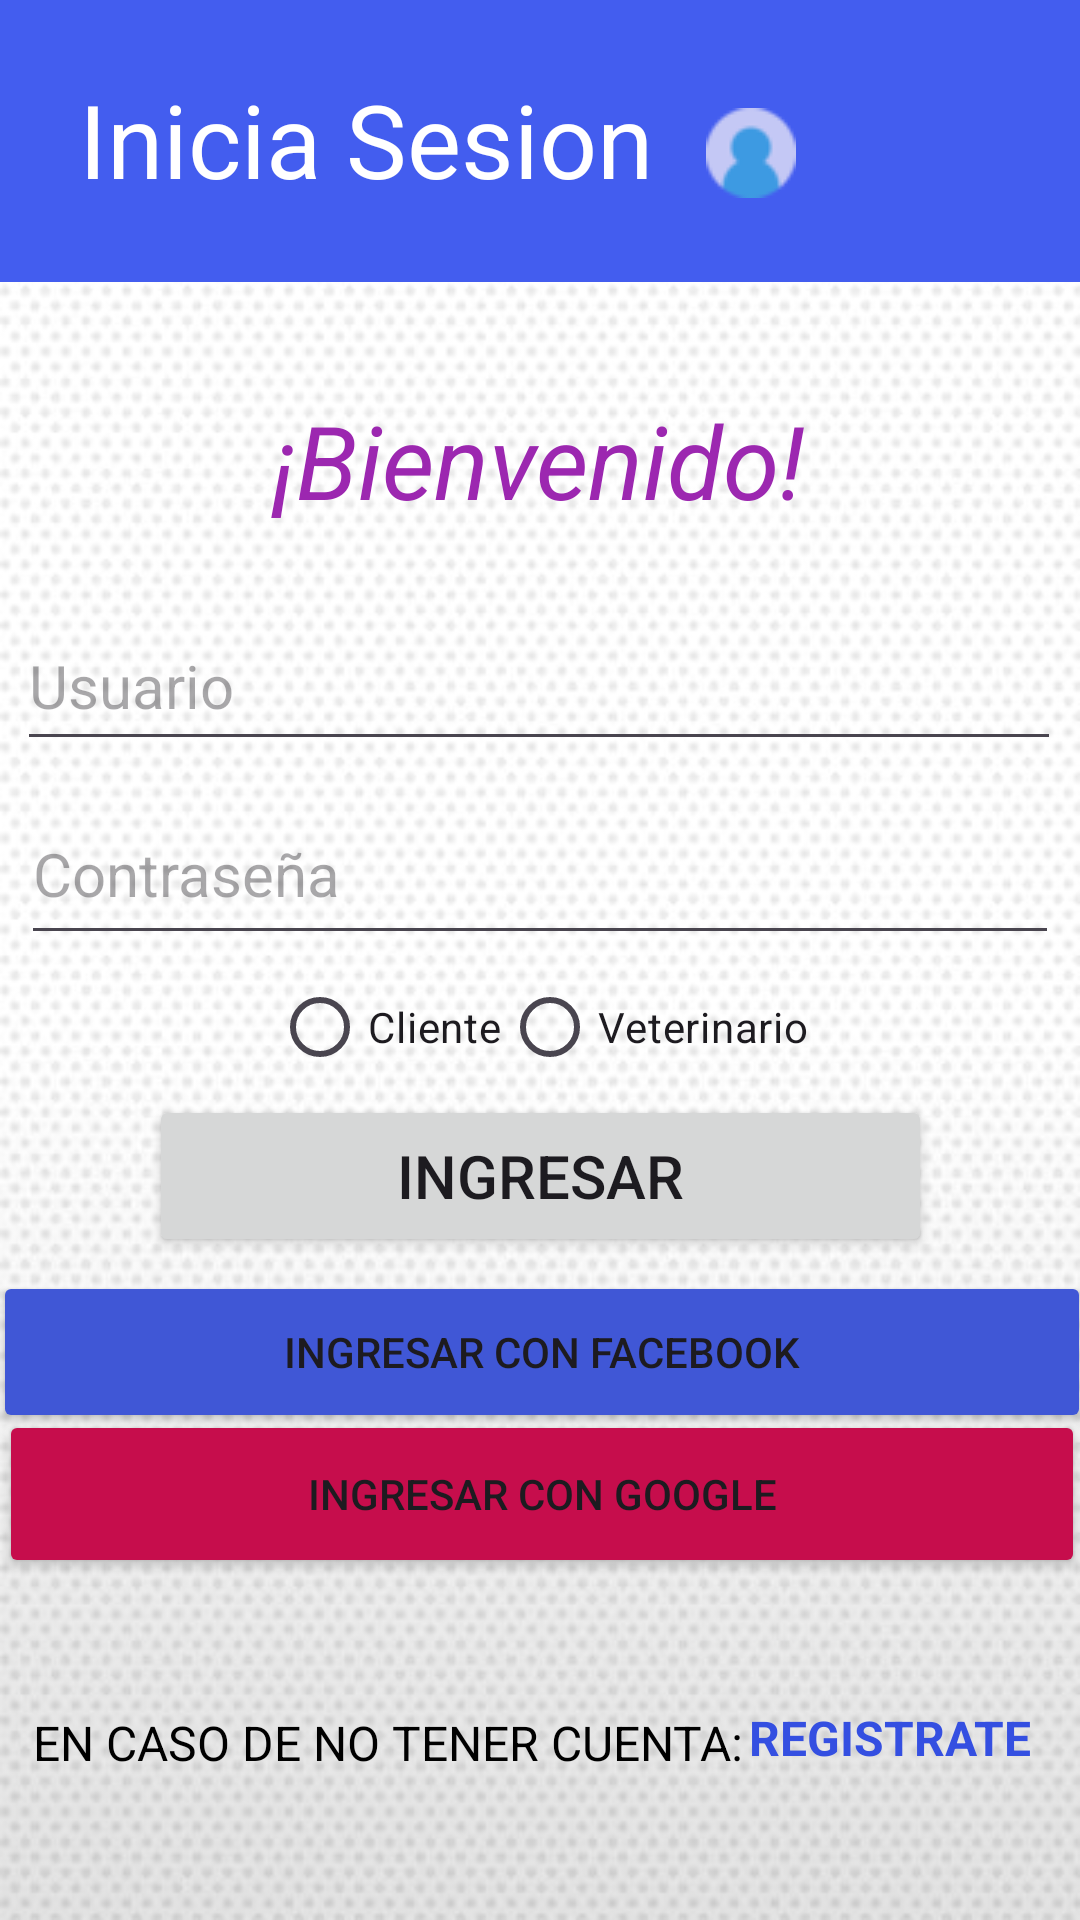

Locate icon controls on the screen. Image size 1080×1920, boxes as (x1, y1, x2, y2).
usuario: (706, 108, 796, 198)
